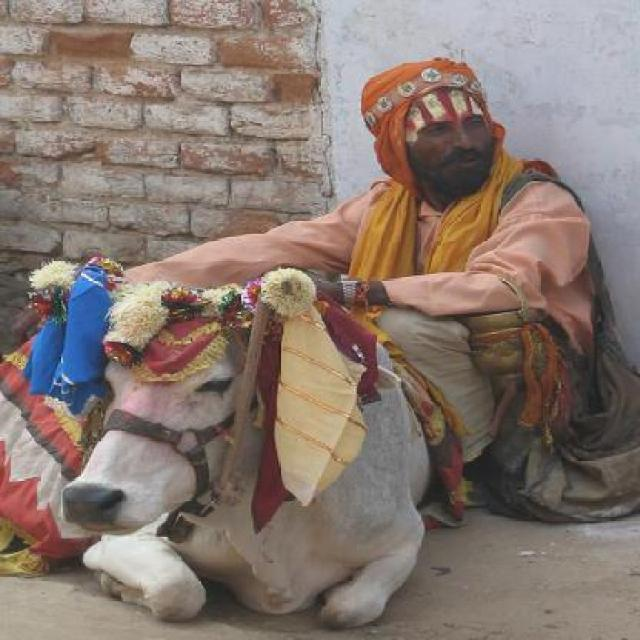Person: (123, 56, 620, 473)
